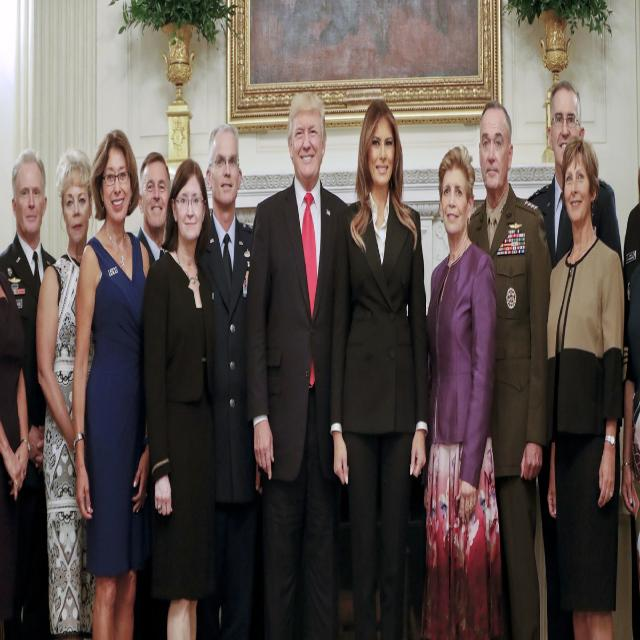body: (245, 87, 351, 639), (328, 94, 432, 639), (525, 76, 625, 640), (466, 97, 553, 640), (541, 130, 624, 639), (73, 125, 152, 639), (422, 141, 500, 639), (141, 156, 219, 640), (196, 121, 258, 640), (34, 146, 99, 639), (0, 148, 58, 640), (618, 140, 640, 639), (0, 260, 36, 512), (136, 150, 172, 268), (622, 166, 640, 268)
